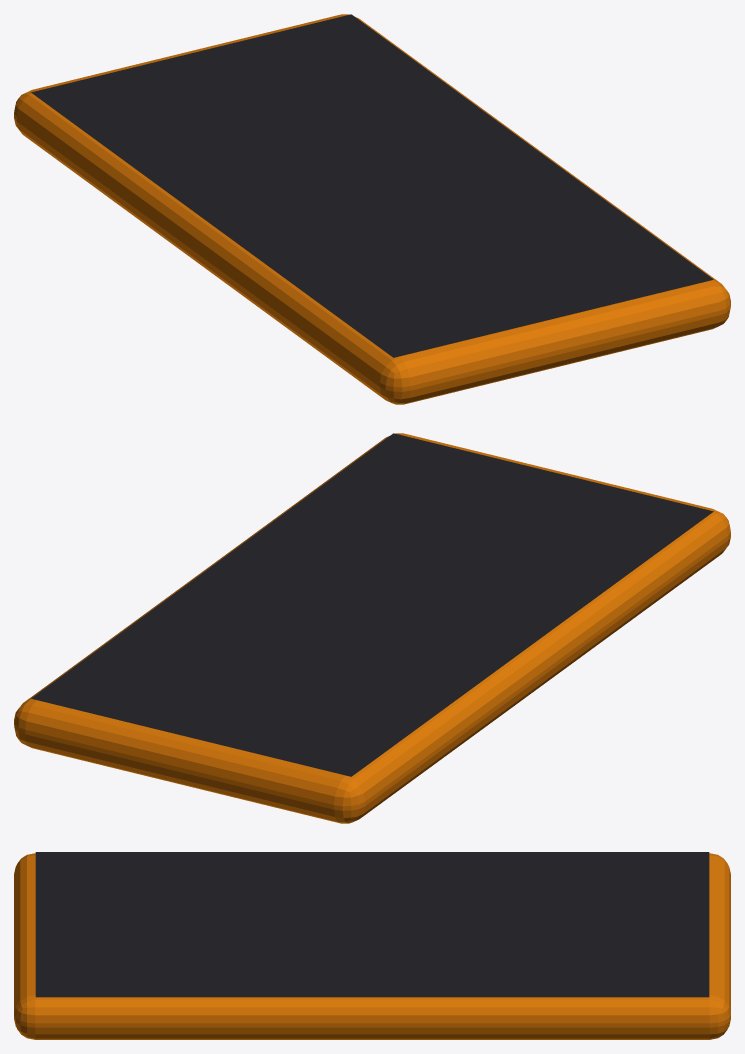
Rendered from oppo-f-model-338-mid-range-2025.glb.
The picture shows the model from 3 angles, top to bottom: view 1: azimuth 30°, elevation 25°; view 2: azimuth 150°, elevation 25°; view 3: azimuth 270°, elevation 25°; orthographic projection. The views are drawn at different scales.
Parts seen in each view (by area): view 1: Phone_Screen, Phone_Body; view 2: Phone_Screen, Phone_Body; view 3: Phone_Screen, Phone_Body.
Part boxes in pixels (x1,y1,x2,y2): Phone_Screen: (31,14,713,357); Phone_Body: (14,14,730,404); Phone_Screen: (31,433,713,776); Phone_Body: (14,433,730,823); Phone_Screen: (35,852,709,997); Phone_Body: (14,853,730,1039).
Bounding box in the file's own units: 0.0778 × 0.0099 × 0.1492.
